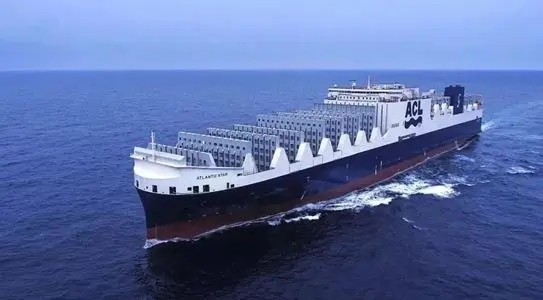Cargoship: (127, 68, 486, 241)
